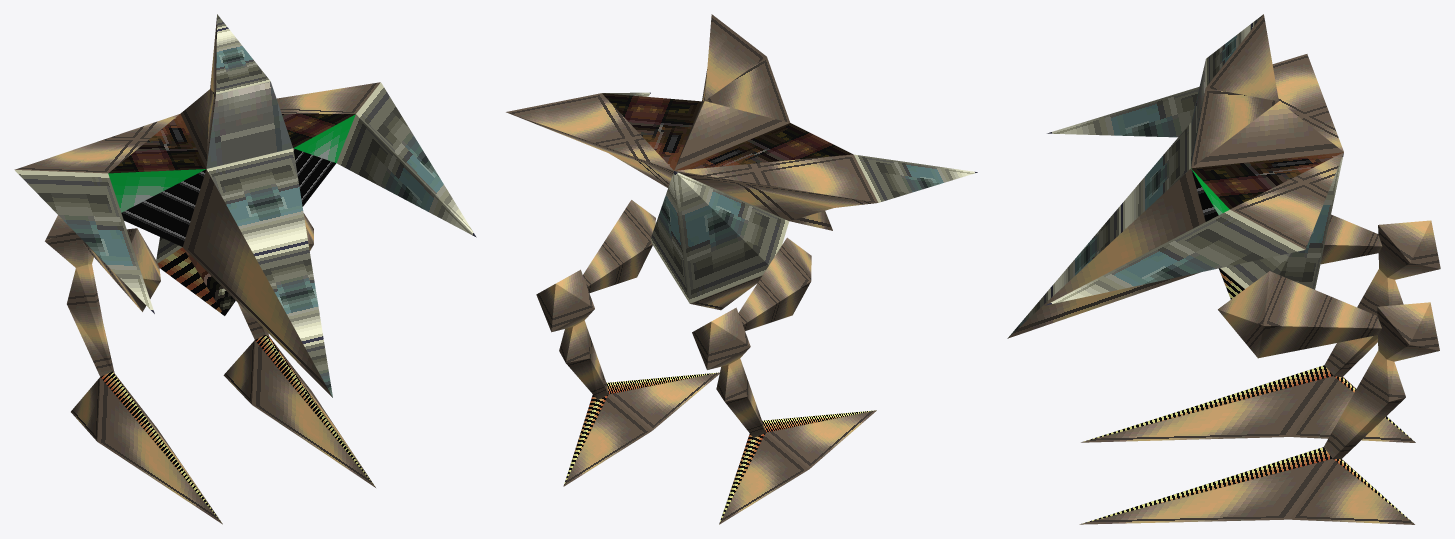
The model's file is hop_bot.fbx.
The picture shows the model from 3 angles, left to right: view 1: azimuth 30°, elevation 25°; view 2: azimuth 150°, elevation 25°; view 3: azimuth 270°, elevation 25°; orthographic projection. The views are drawn at different scales.
Visible parts, largest first — view 1: Hop_Bot; view 2: Hop_Bot; view 3: Hop_Bot.
Boxes of the visible parts, x1,y1,x2,y2 form: Hop_Bot: (14, 14, 476, 524); Hop_Bot: (506, 14, 977, 524); Hop_Bot: (1007, 14, 1440, 524).
Bounding box in the file's own units: 4560 × 5129 × 4283.
